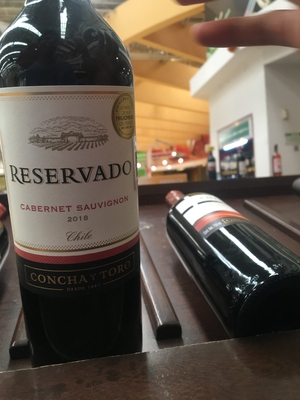reservado cabernet sauvignon: (2, 5, 145, 357)
